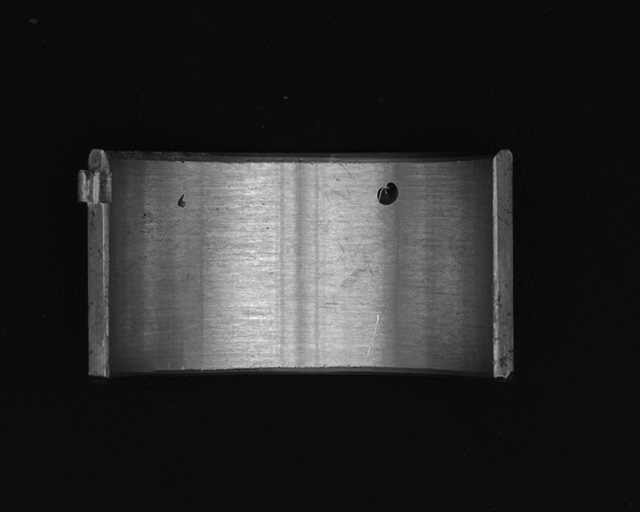blot: (339, 237, 393, 296), (376, 181, 399, 206)
bruise: (176, 194, 187, 210)
nick: (364, 313, 381, 361)
